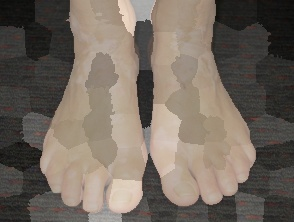vitiligo: (62, 6, 140, 139), (159, 17, 226, 100)
